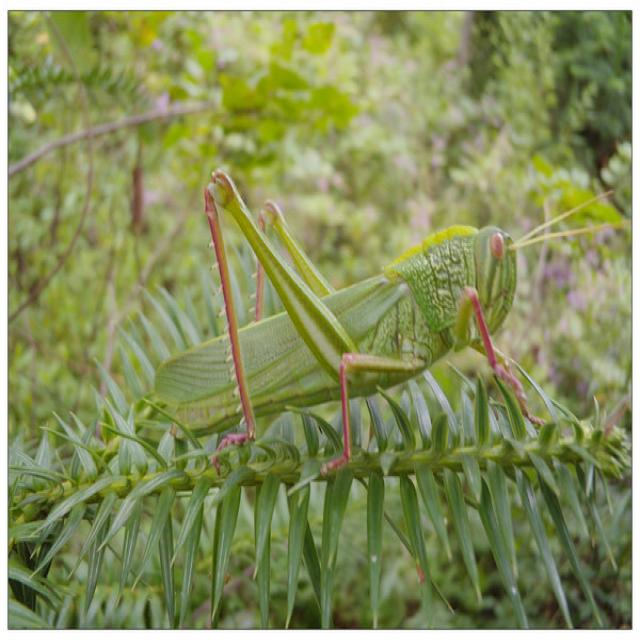ZhaMeng: (114, 165, 550, 448)
